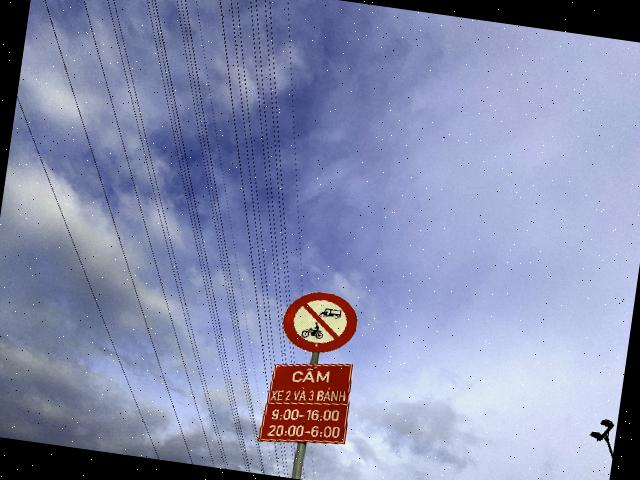cam-xe-2-banh-3-banh: (279, 288, 362, 358)
